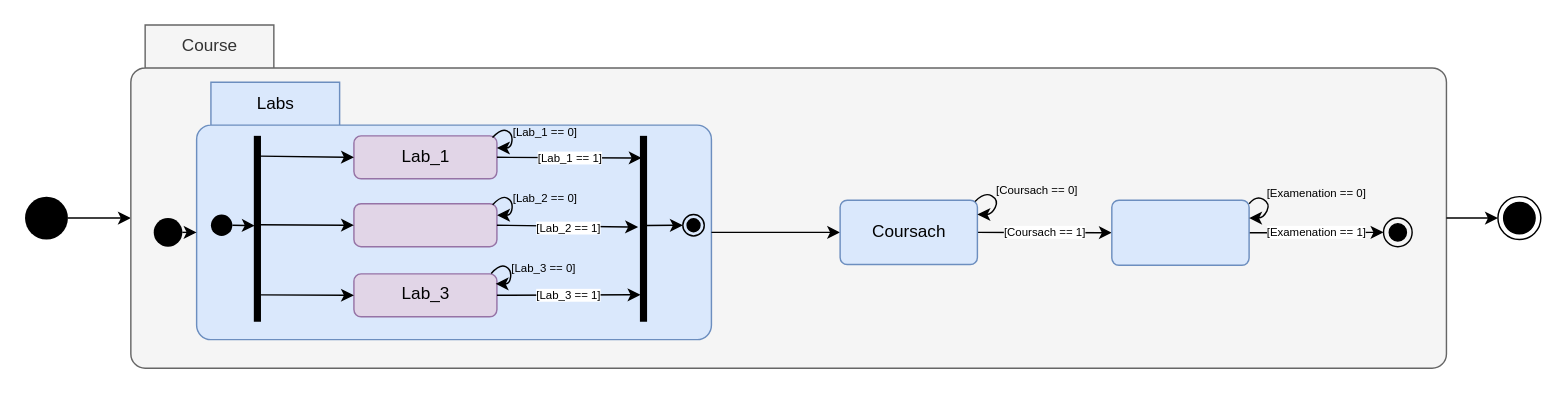
Some shapes in this 1566 by 393 pixel diagram are drawn without their labels. Each missing label, with the box of its shape:
Examenation: (1110, 199, 1249, 265)
Lab_2: (352, 202, 497, 247)
